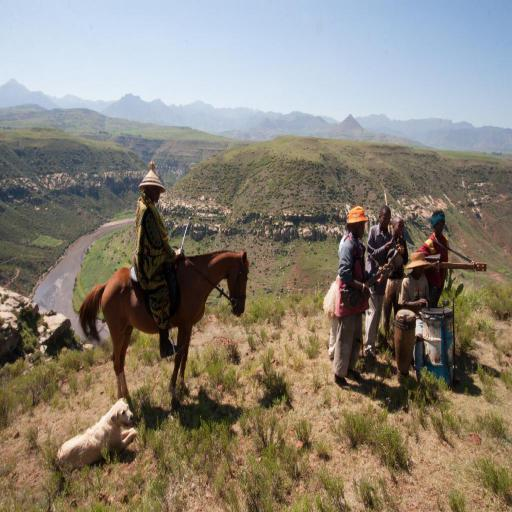horse: (76, 246, 252, 410)
